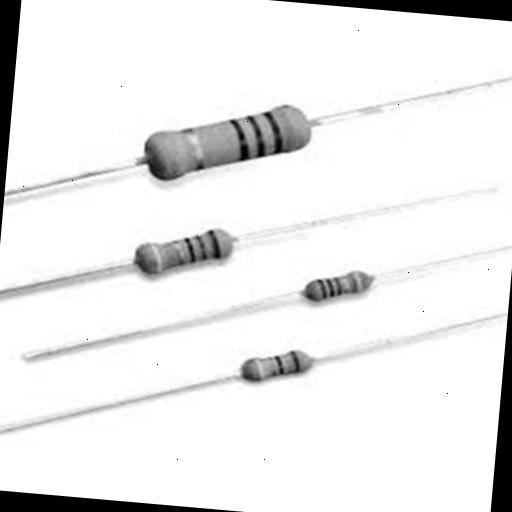RESISTOR: (96, 38, 383, 228), (63, 178, 264, 316), (203, 316, 368, 434), (254, 224, 409, 332)
